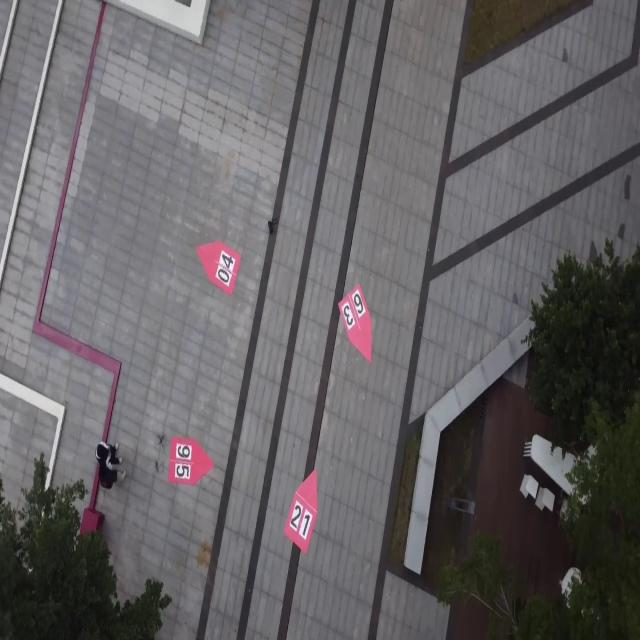-sign-: (285, 469, 319, 554), (338, 283, 372, 365), (196, 240, 242, 298), (169, 436, 214, 486)
